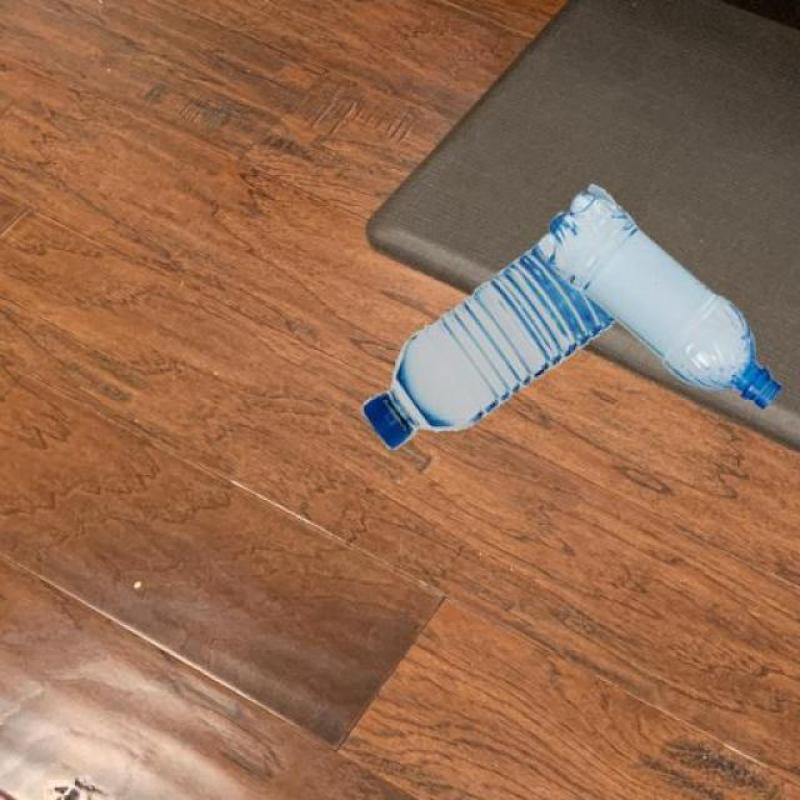botella: (362, 220, 616, 450), (534, 183, 784, 407)
